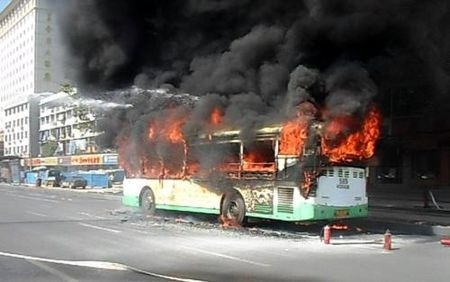fire: (125, 106, 273, 180), (281, 103, 383, 161)
